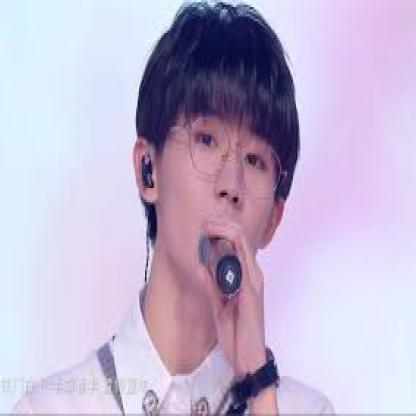glasses: (178, 116, 292, 194)
